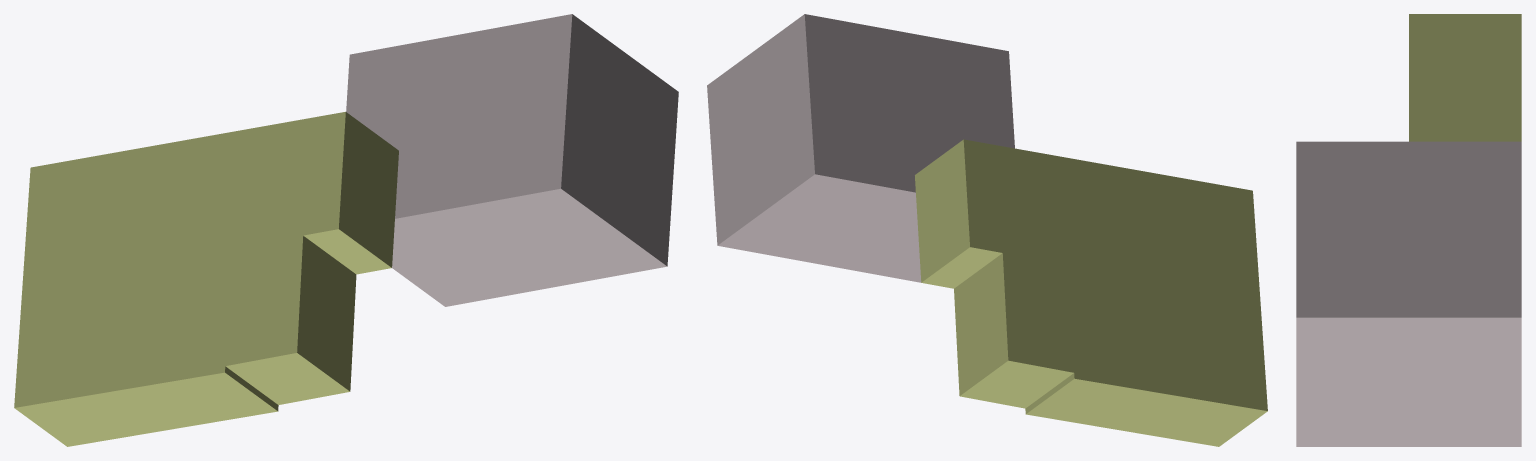
3 renders of one model, left to right at view 1: azimuth 30°, elevation 25°; view 2: azimuth 150°, elevation 25°; view 3: azimuth 270°, elevation 25°, orthographic. The views are drawn at different scales.
Parts seen in each view (by area): view 1: 0_3_2_0_2_1_3_0_0; view 2: 0_3_2_0_2_1_3_0_0; view 3: 0_3_2_0_2_1_3_0_0.
Boxes of the visible parts, x1,y1,x2,y2 form: 0_3_2_0_2_1_3_0_0: (14, 14, 678, 446); 0_3_2_0_2_1_3_0_0: (707, 14, 1267, 446); 0_3_2_0_2_1_3_0_0: (1296, 14, 1521, 446).
Bounding box in the file's own units: 36.32 × 17.88 × 12.
